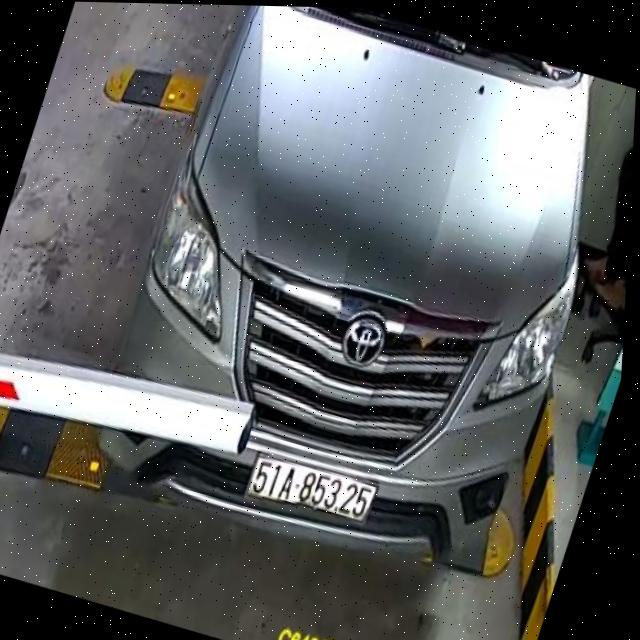car: (63, 2, 640, 612)
plate: (236, 444, 385, 537)
